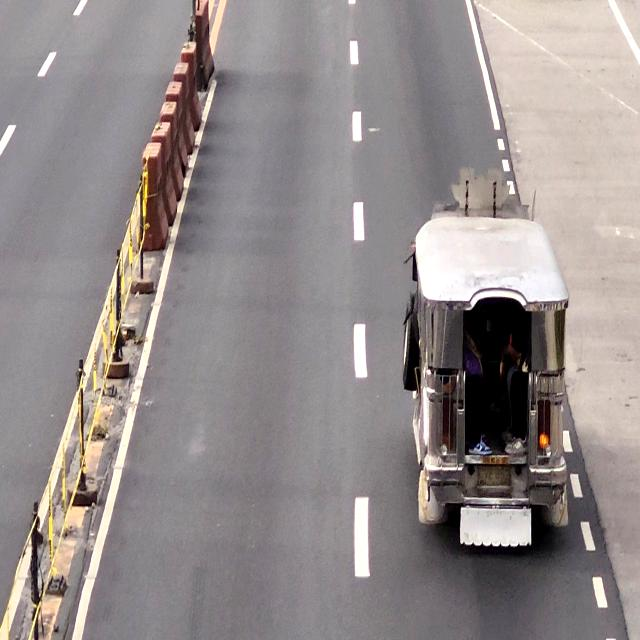Jeep: (404, 175, 570, 547)
License-Plate: (477, 462, 512, 491)
